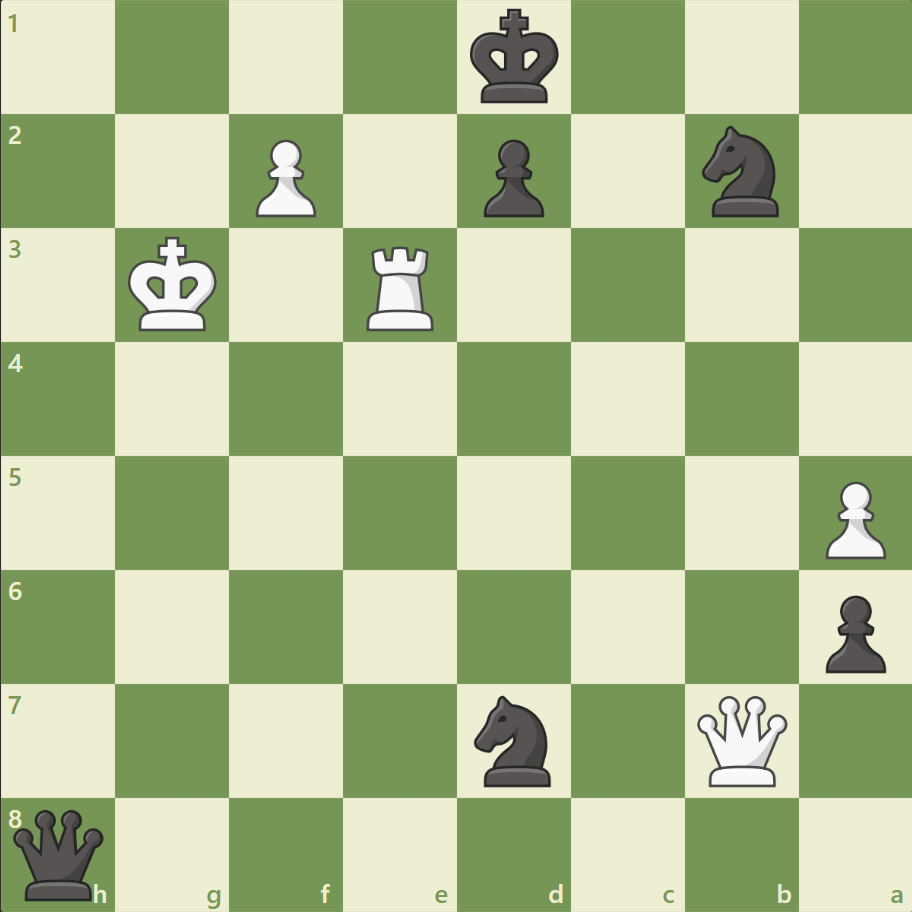K: (124, 231, 224, 339)
P: (247, 132, 322, 223), (815, 473, 889, 564)
Q: (691, 690, 790, 789)
R: (360, 239, 442, 336)
k: (465, 4, 565, 112)
n: (465, 688, 562, 791), (692, 121, 789, 223)
p: (474, 132, 549, 223), (815, 586, 889, 677)
q: (10, 804, 109, 903)
